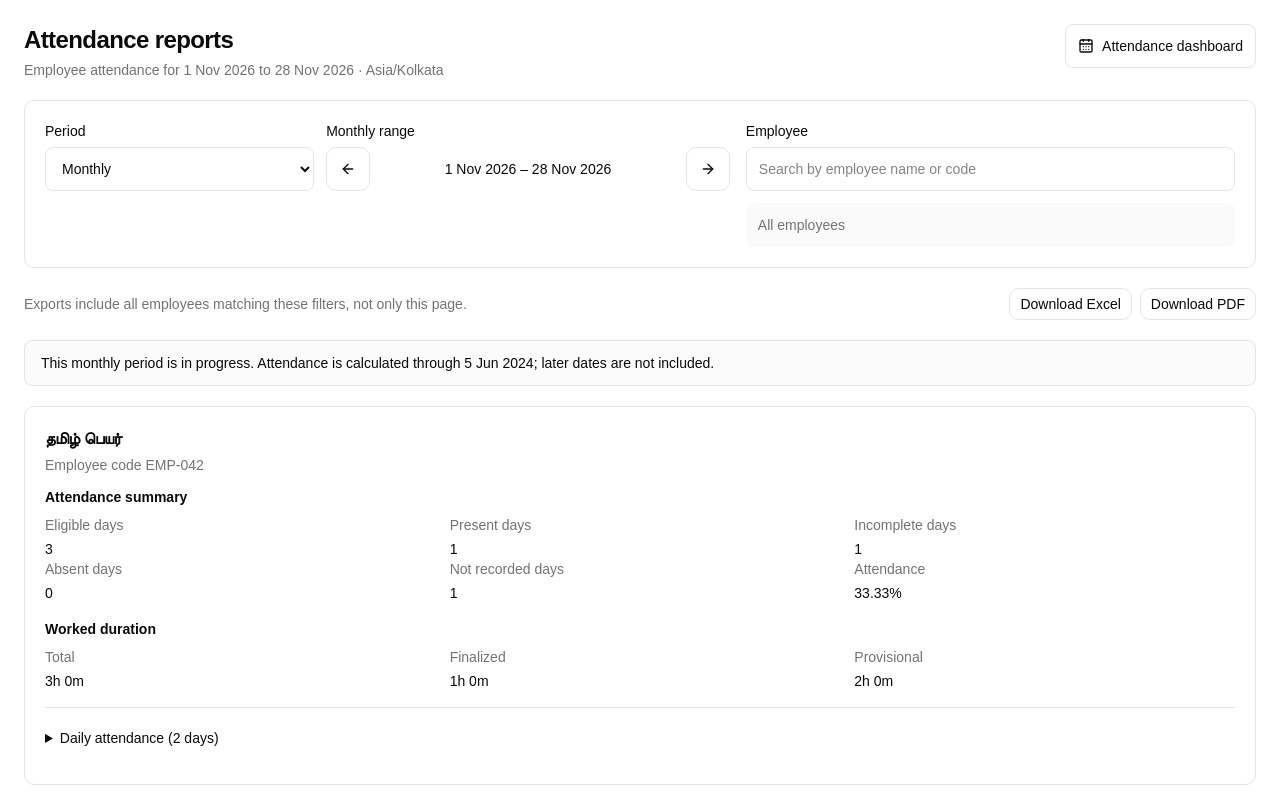
Scenario: attendance report page › rejects reversed and overlong custom ranges without issuing a valid scope
The width and height of the screenshot is (1280, 800).
Select "Custom date range" in the dropdown labelled "Period": (180, 169) [45,147,314,191]
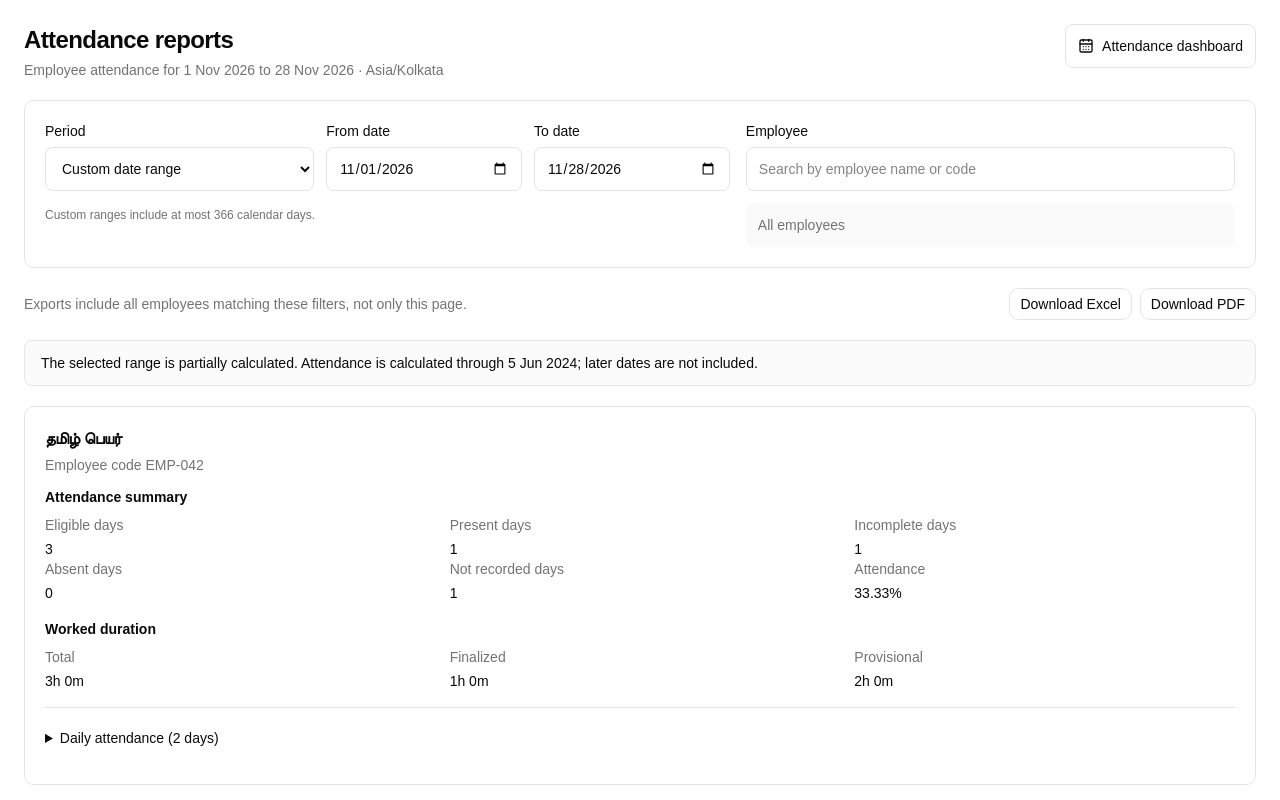
In the date field labelled "From date": (424, 169) [326,147,522,191], type "2024-02-02"
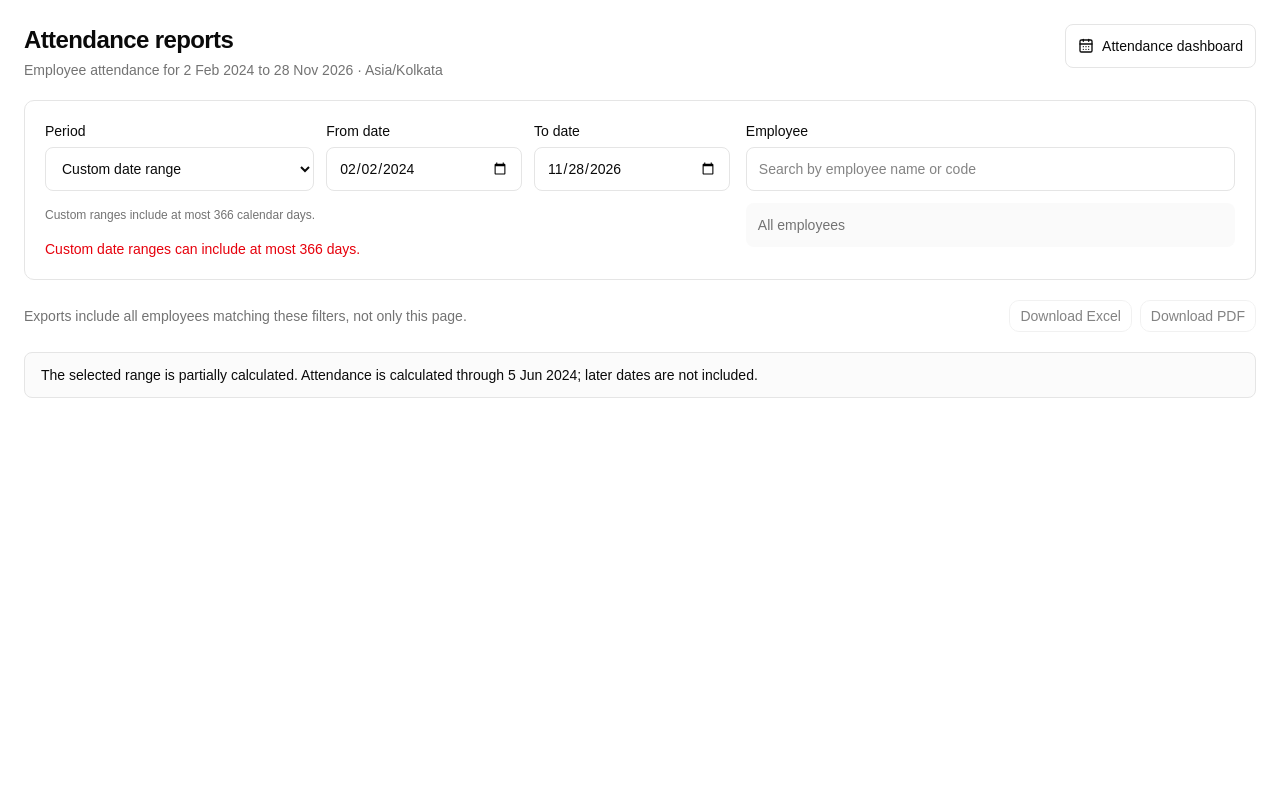
In the date field labelled "To date": (632, 169) [534,147,730,191], type "2024-02-01"
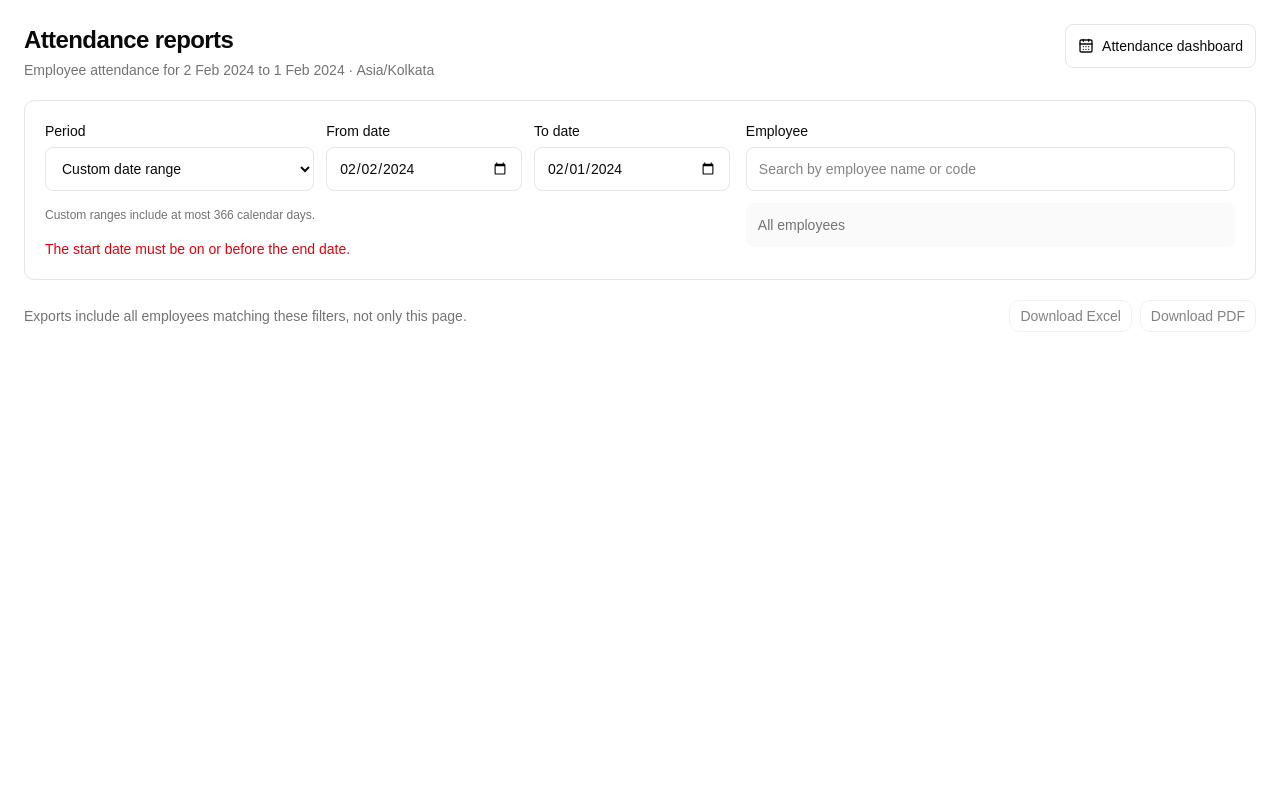
Now the message reads "The start date must be on or before the end date.", box [45,241,350,257]
In the date field labelled "From date": (424, 169) [326,147,522,191], type "2024-01-01"
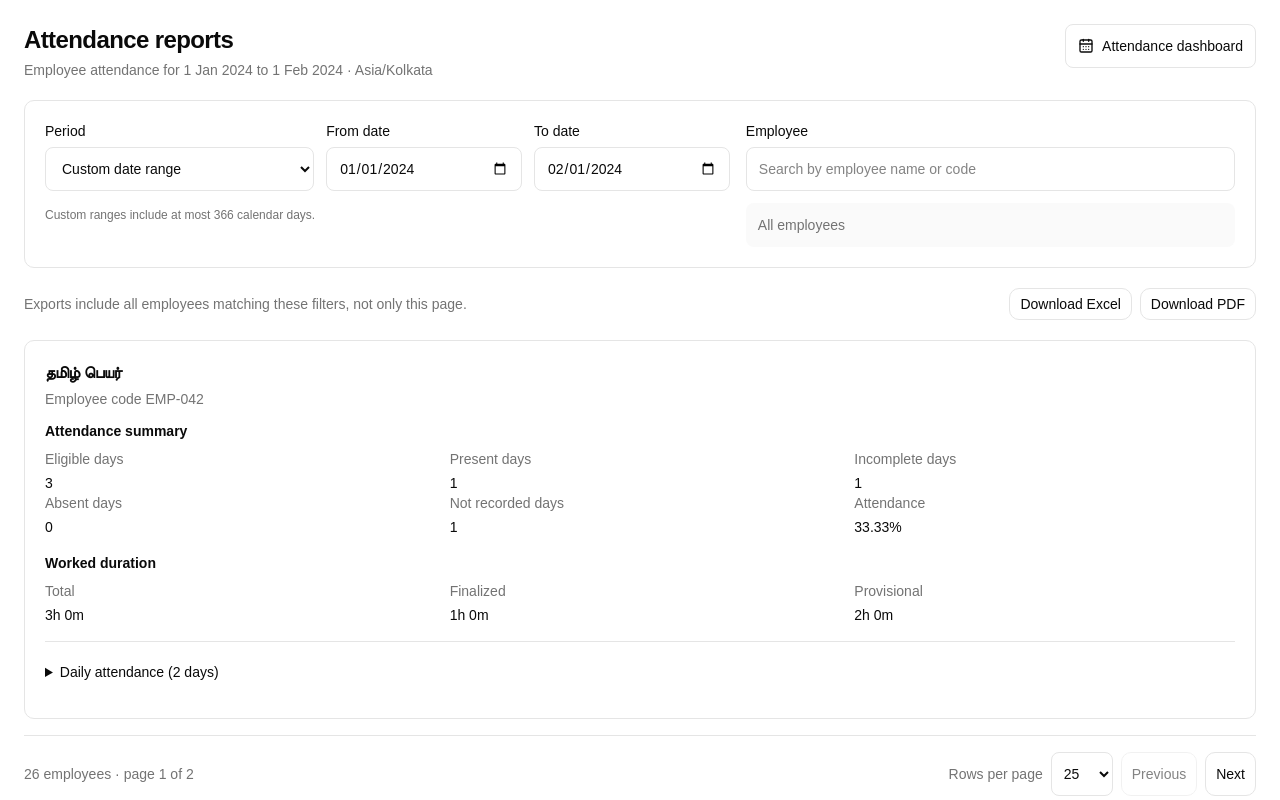
In the date field labelled "To date": (632, 169) [534,147,730,191], type "2024-12-31"
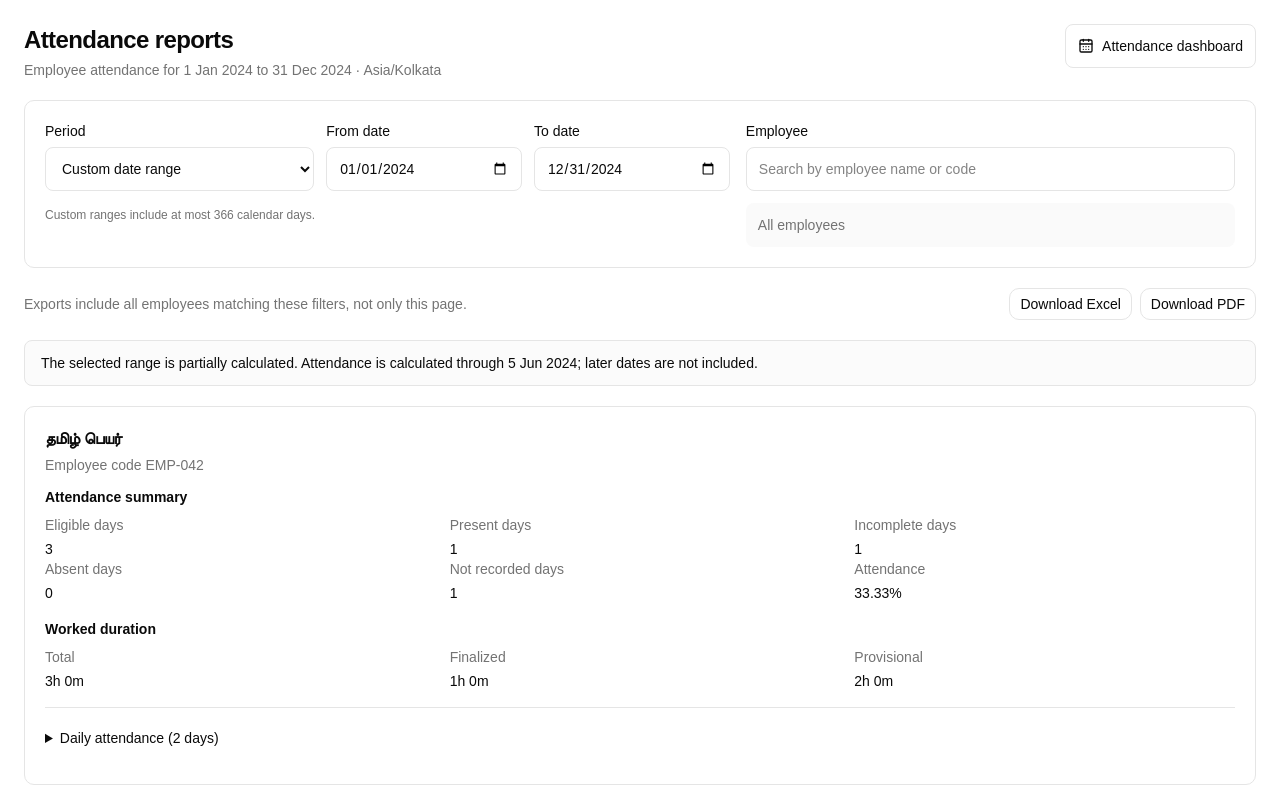
Expected: the message "Custom date ranges can include at most 366 days." is not shown
In the date field labelled "To date": (632, 169) [534,147,730,191], type "2025-01-01"
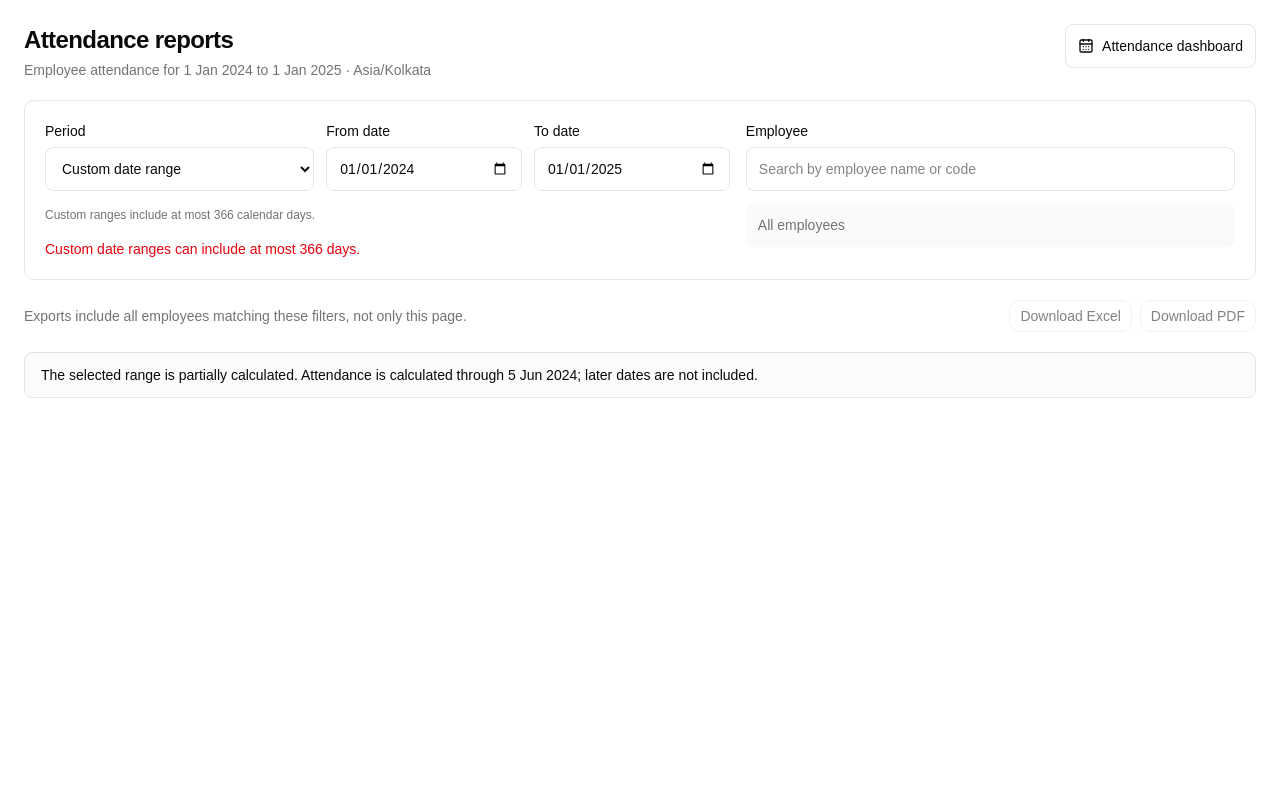
Now the message "Custom date ranges can include at most 366 days." is shown, box [45,241,360,257]
